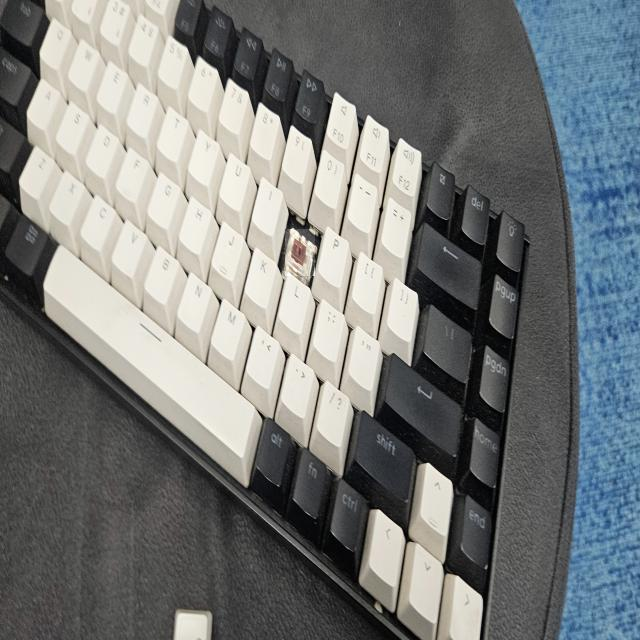C: (286, 229, 316, 276)
